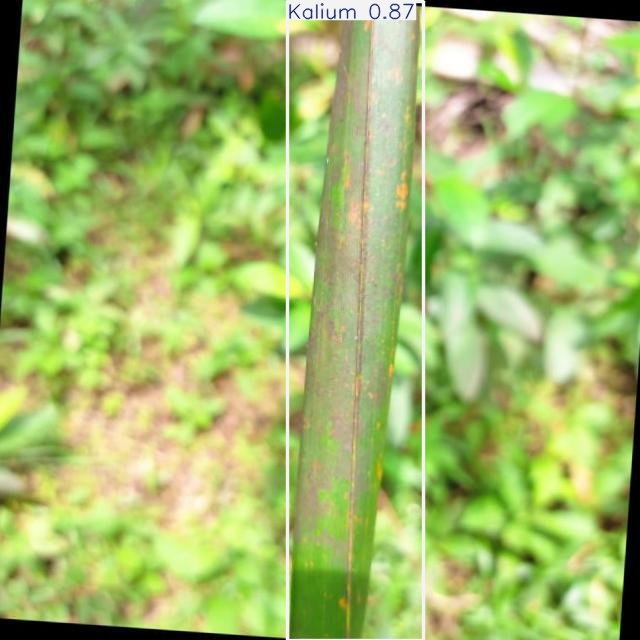Kalium: (288, 1, 423, 640)
